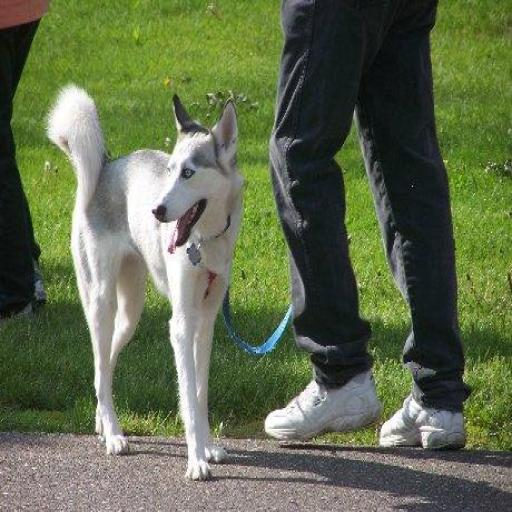dog_face: (153, 96, 239, 248)
